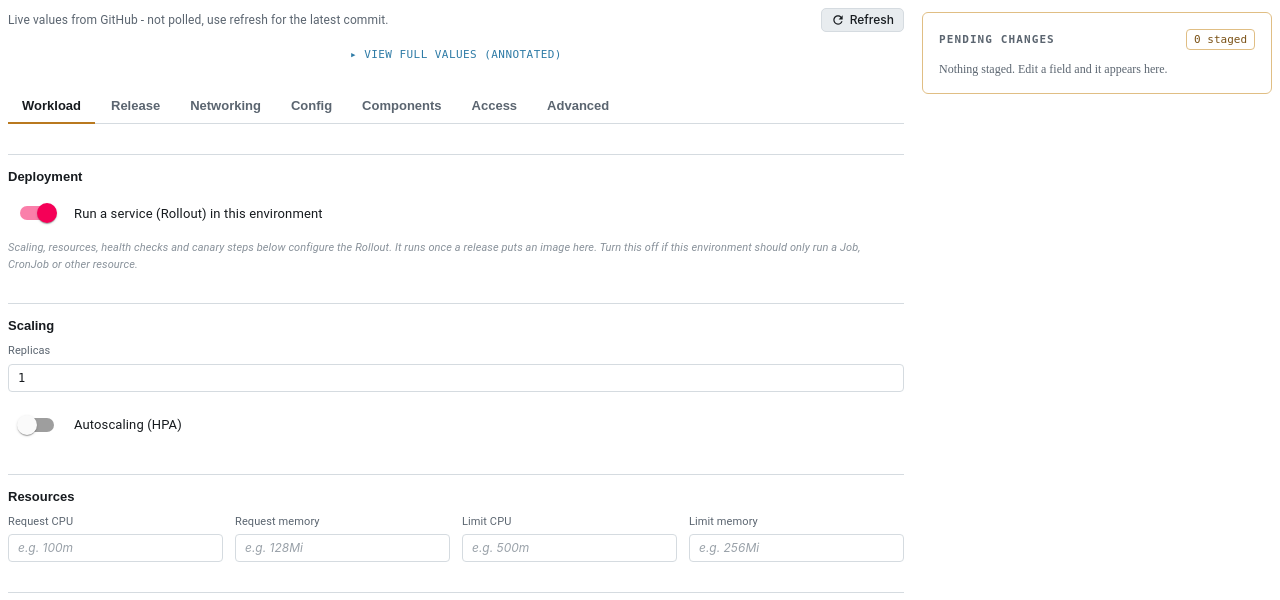
Test: values form: network policy › flags a source with no namespace and bad ports
Click the tab "Networking".
click(226, 107)  # box [176,89,275,124]
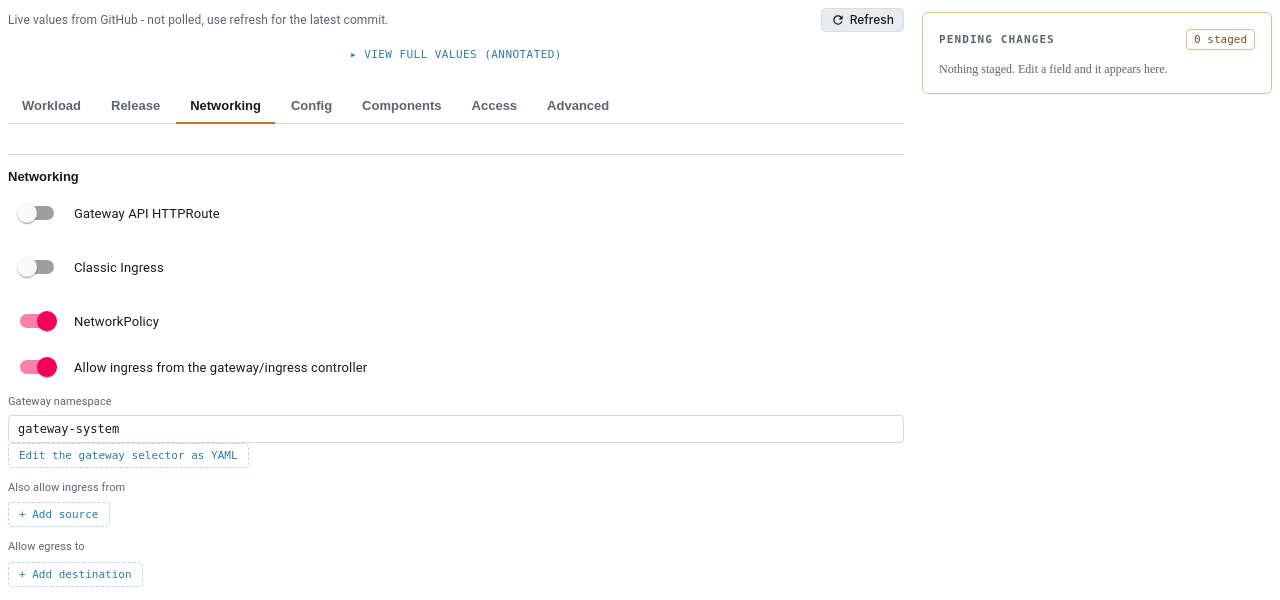
Click the button "+ Add source".
click(59, 515)  # box [8,502,110,527]
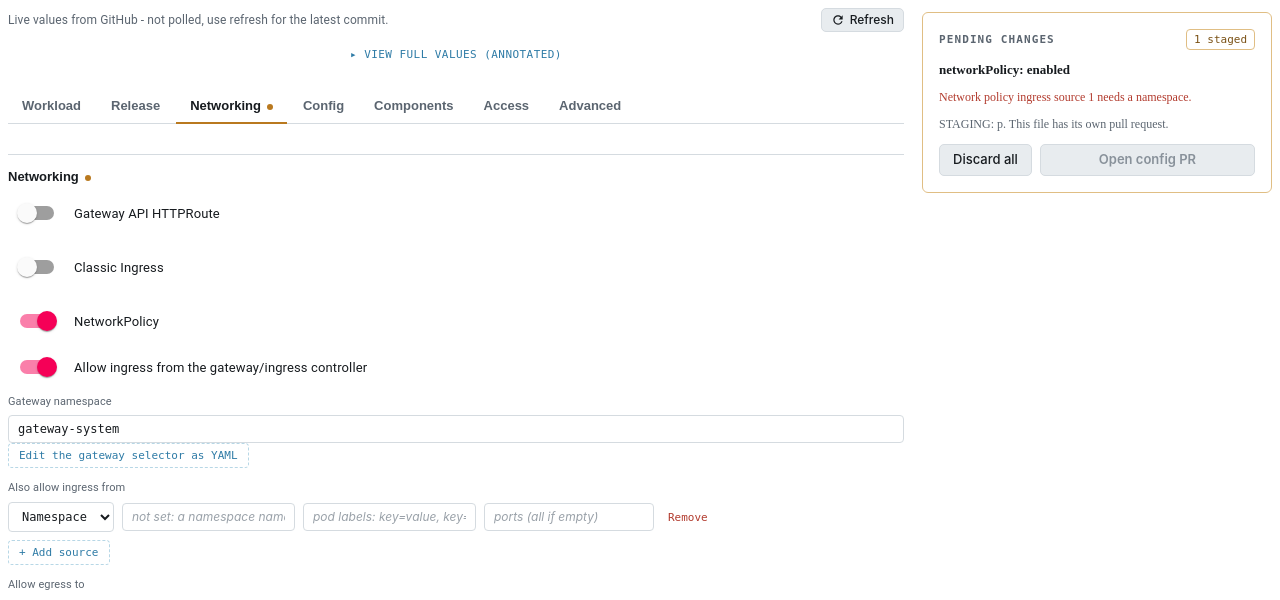
Type "99999" into the field named "Also allow ingress from 1 ports".
click(569, 517); type("99999")  # box [484,503,654,531]
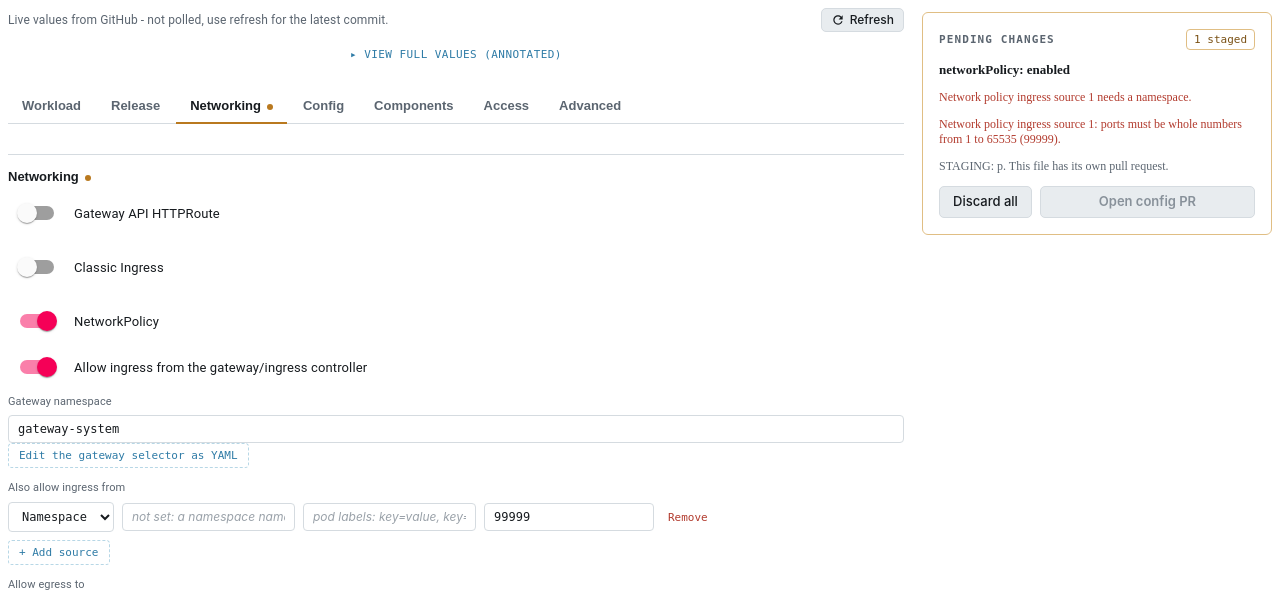
Check: the text "Network policy ingress source 1 needs a namespace." is shown, box [939,90,1192,104]
Check: the text "ports must be whole numbers from 1 to 65535" is shown, box [939,117,1242,146]
